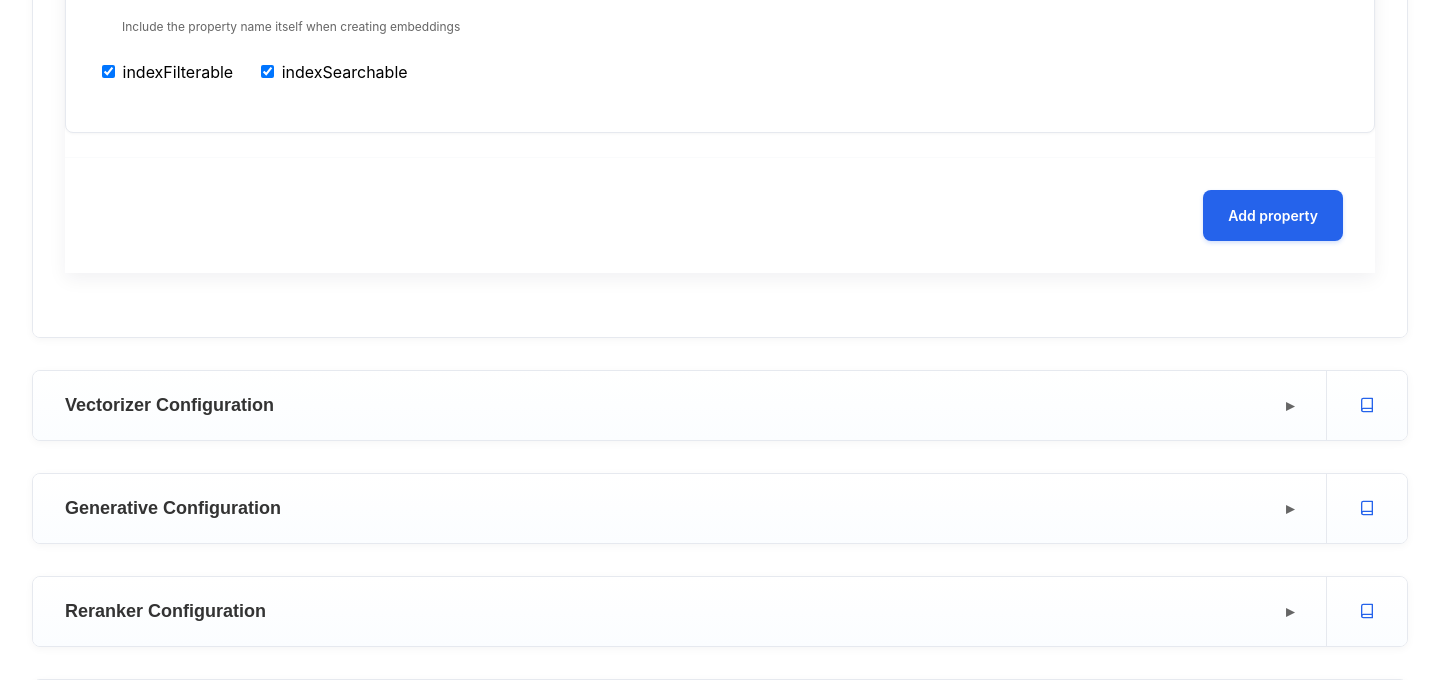
Scenario: Collection - Dynamic Index with Quantizers › should hide Compression/Quantization tab when dynamic index is selected
(page scrolled)
Expand Vectorizer Configuration section
Click the button "Vectorizer Configuration ▸".
click(170, 405)  # box [33,371,1326,440]
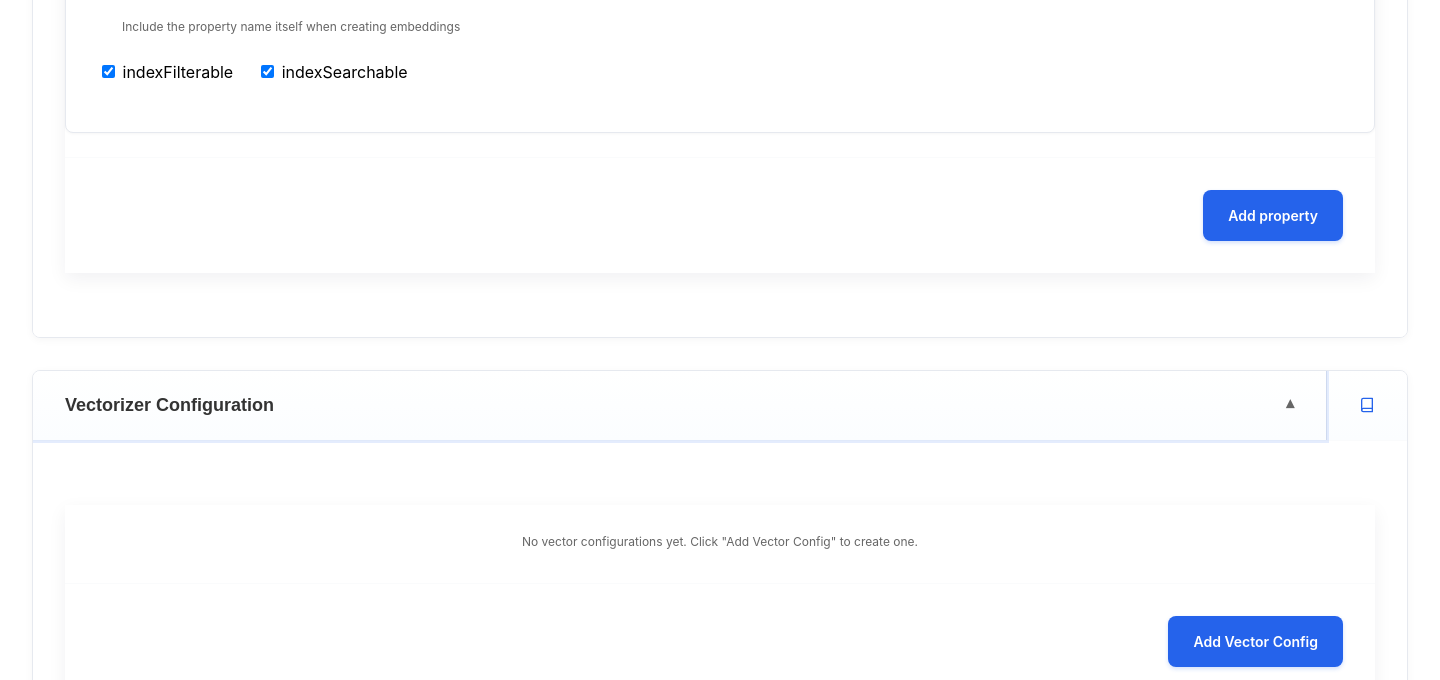
Now the button "Add Vector Config" is shown
Add a vector config
Click the button "Add Vector Config".
click(1256, 642)  # box [1168,616,1343,667]
(page scrolled)
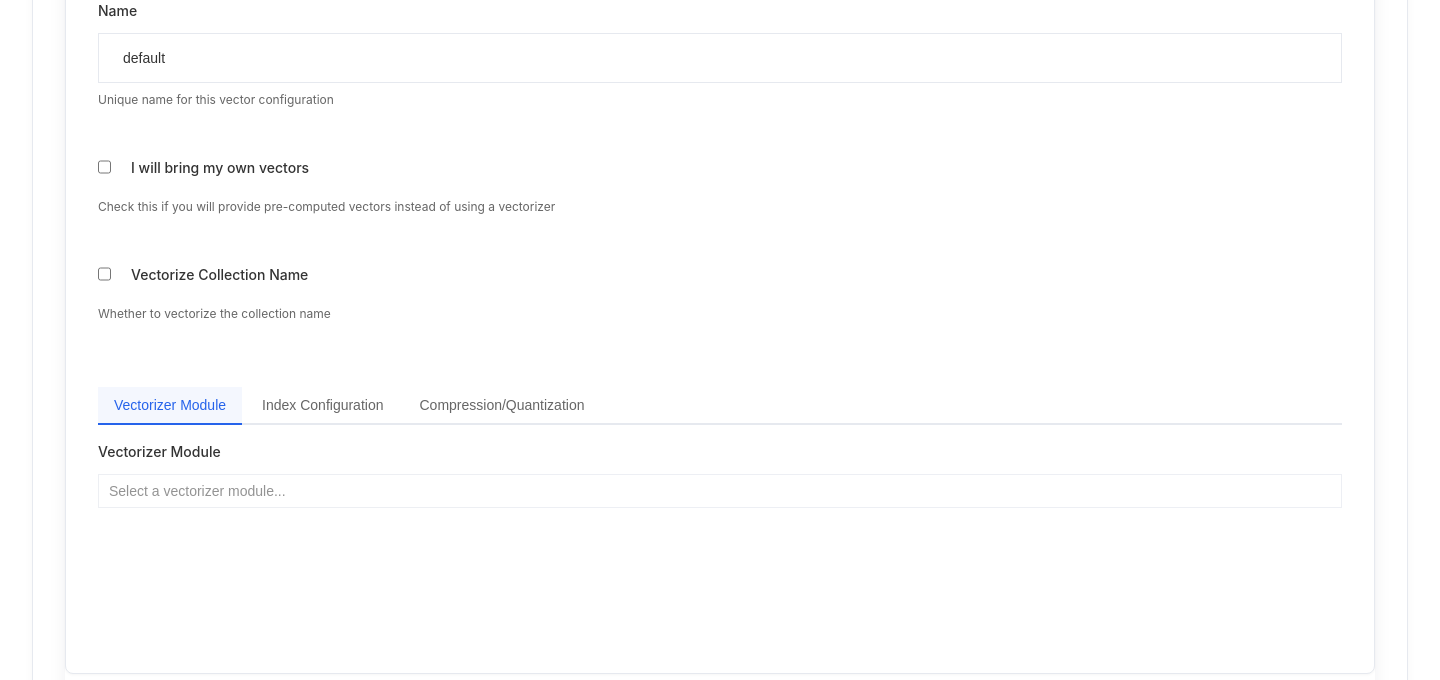
Switch to Index Configuration tab
Click the button "Index Configuration".
click(323, 406)  # box [246,386,400,424]
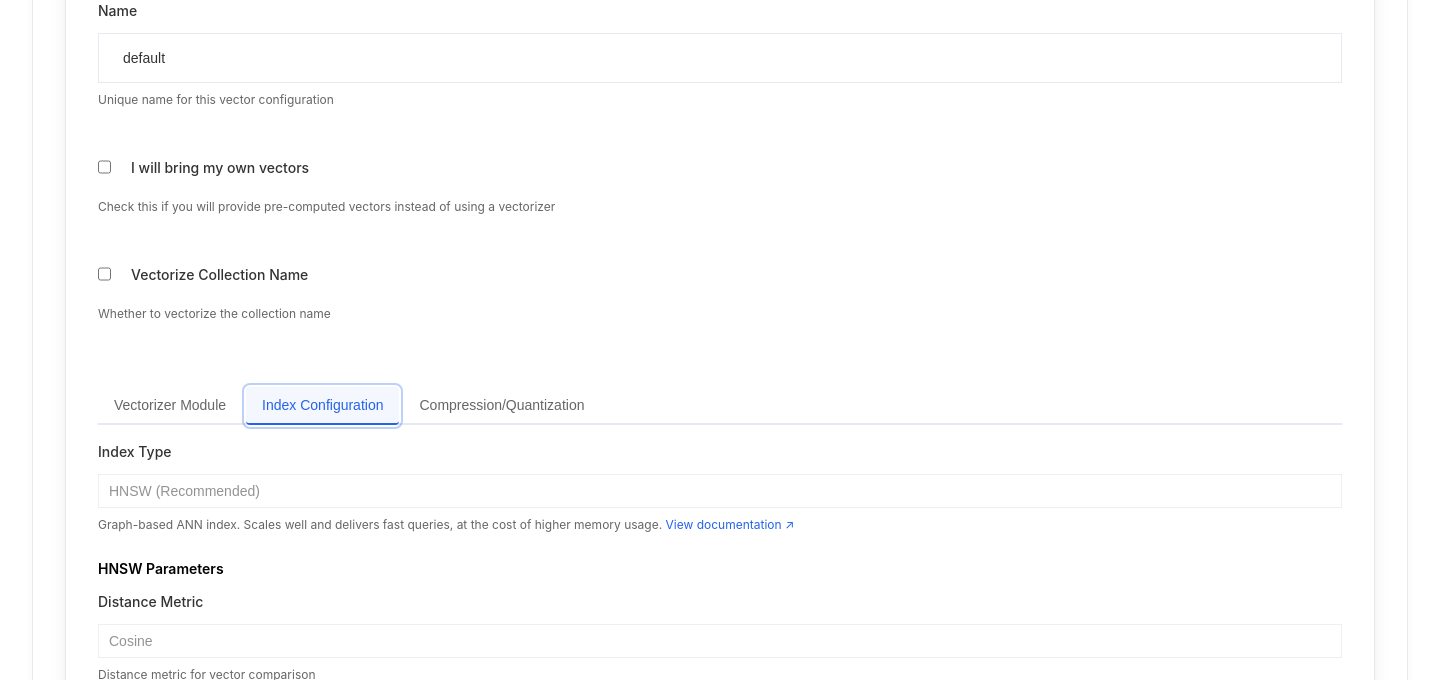
Select dynamic index type
Select "Dynamic" in the dropdown labelled "Index Type" at (720, 490), box [98,474,1342,508]
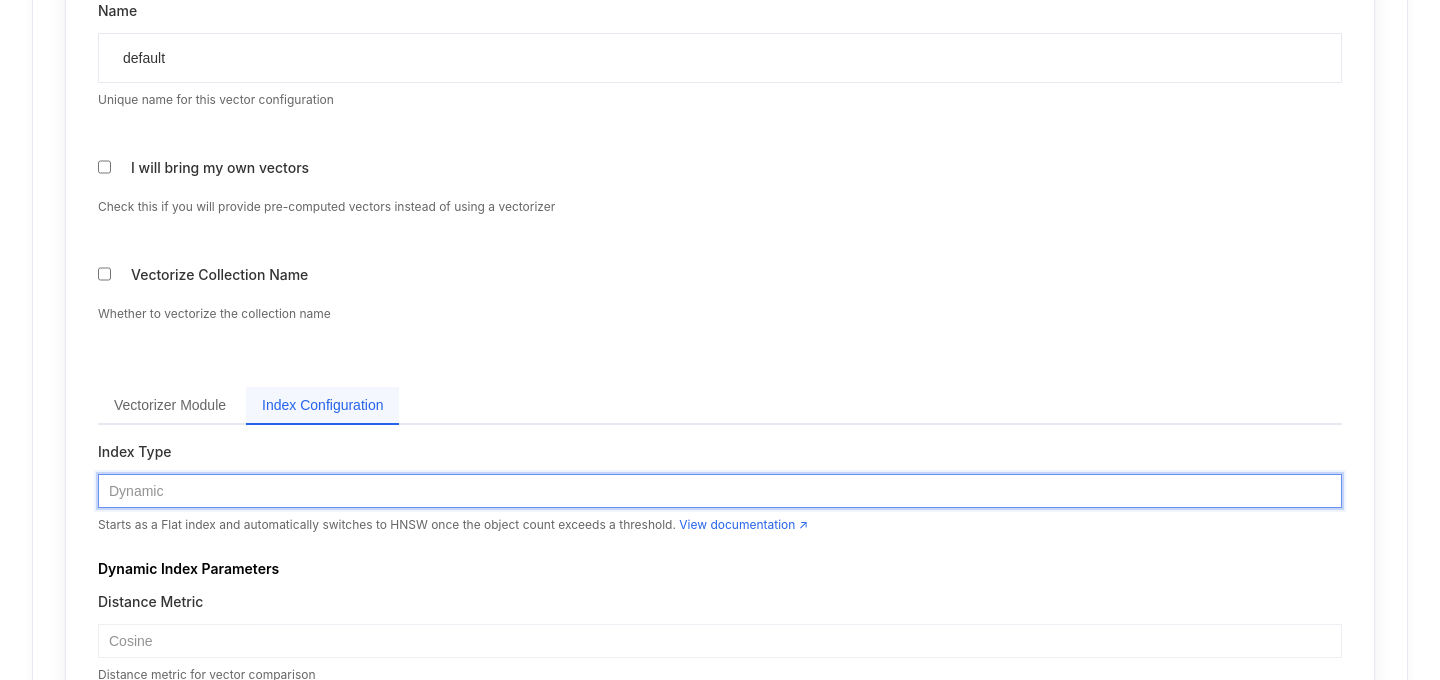
Now the button "Compression/Quantization" is gone
